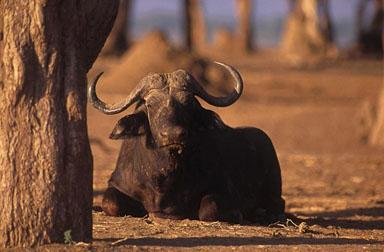Buffalo: (111, 36, 357, 252)
